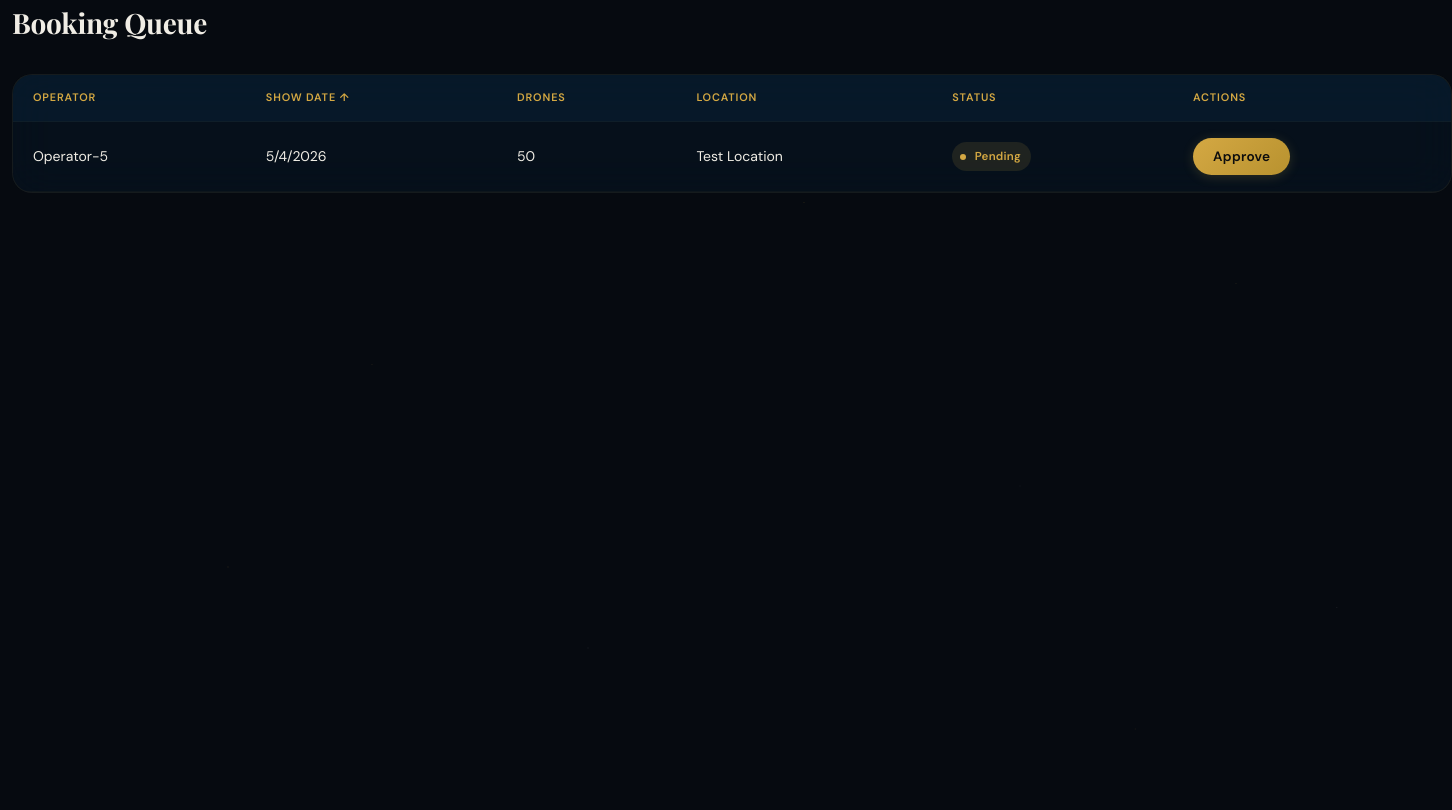
it: AdminBookingQueue › transitions pending booking to allocated on Approve click
Click the button "Approve" at (1242, 157), box x1=1193 y1=138 x2=1290 y2=175
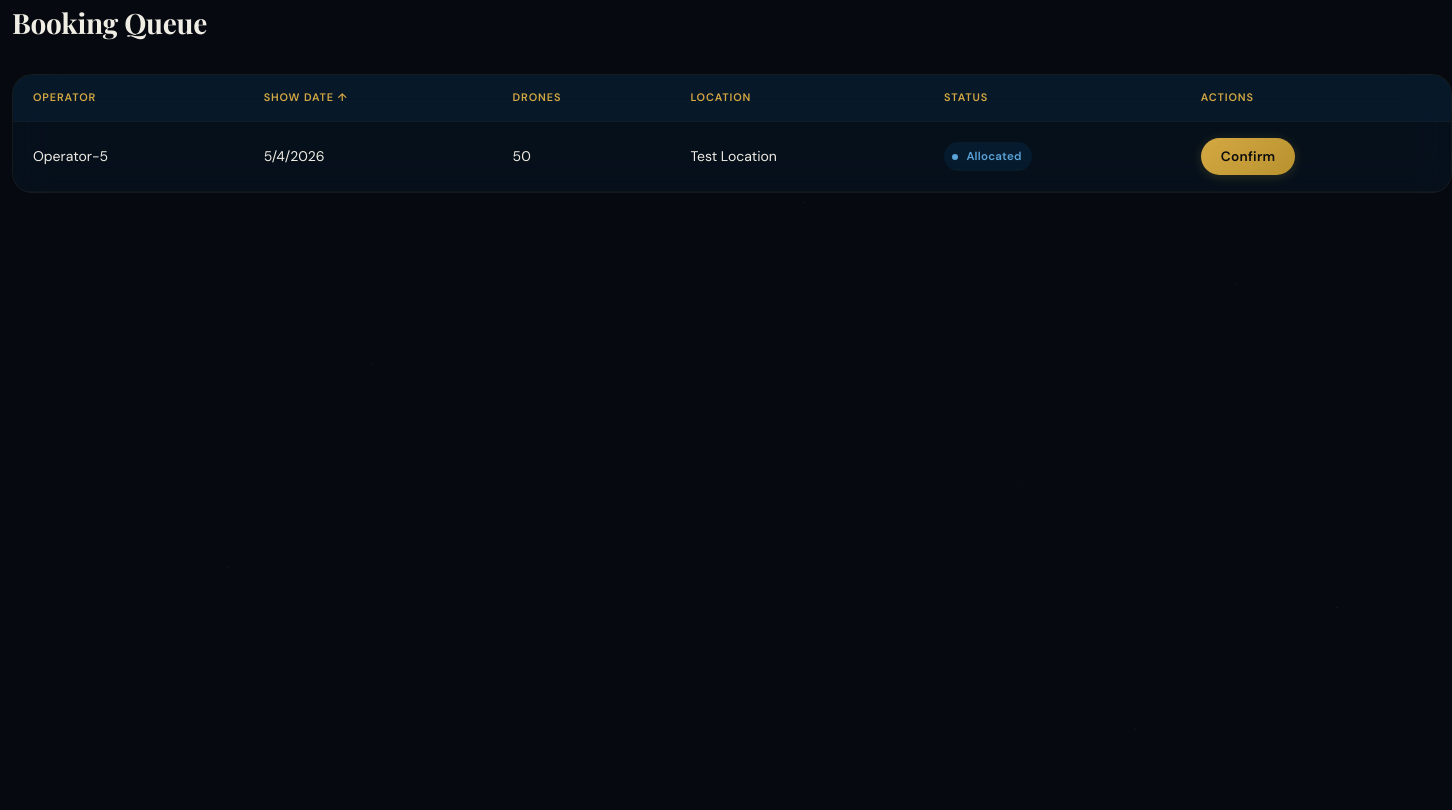
Result: the text "allocated" is shown at x1=944 y1=142 x2=1032 y2=171
